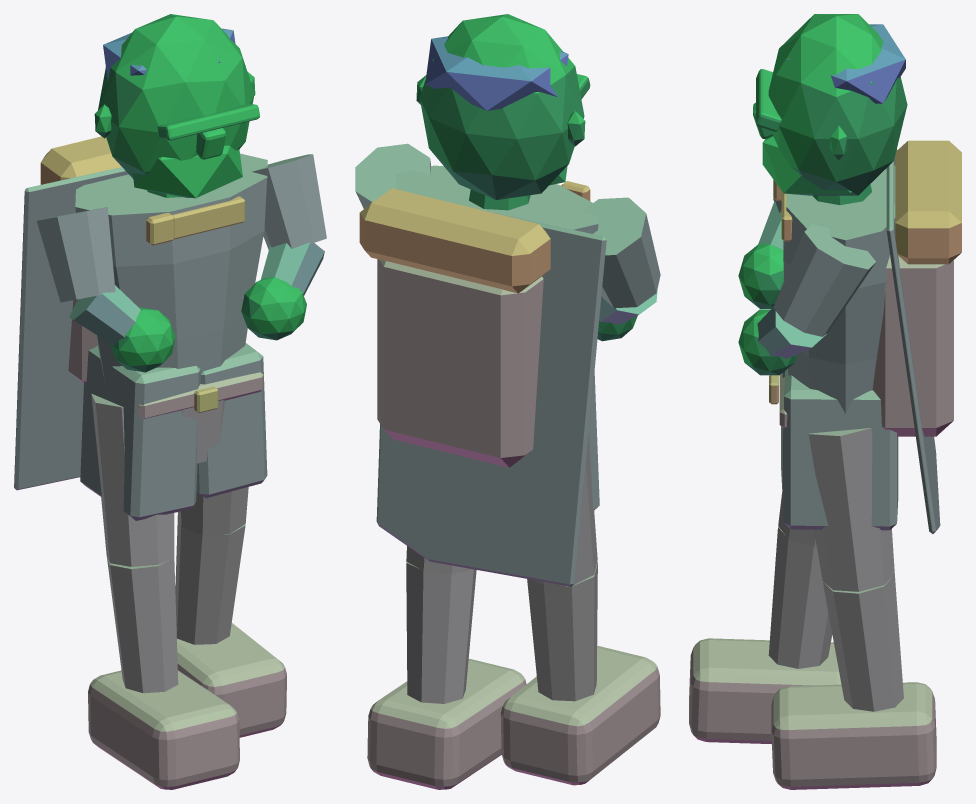
Rendered from npc_traveller_work_v01.glb.
The picture shows the model from 3 angles, left to right: view 1: azimuth 30°, elevation 25°; view 2: azimuth 150°, elevation 25°; view 3: azimuth 270°, elevation 25°; orthographic projection. The views are drawn at different scales.
Visible parts, largest first — view 1: GEO_npc_traveller_work_v01; view 2: GEO_npc_traveller_work_v01; view 3: GEO_npc_traveller_work_v01.
Boxes of the visible parts, bbox=[...] form: GEO_npc_traveller_work_v01: bbox=[14, 14, 326, 789]; GEO_npc_traveller_work_v01: bbox=[355, 14, 660, 789]; GEO_npc_traveller_work_v01: bbox=[689, 14, 961, 789].
Size of the model in its own units: 0.8268 by 2.07 by 0.6957.
